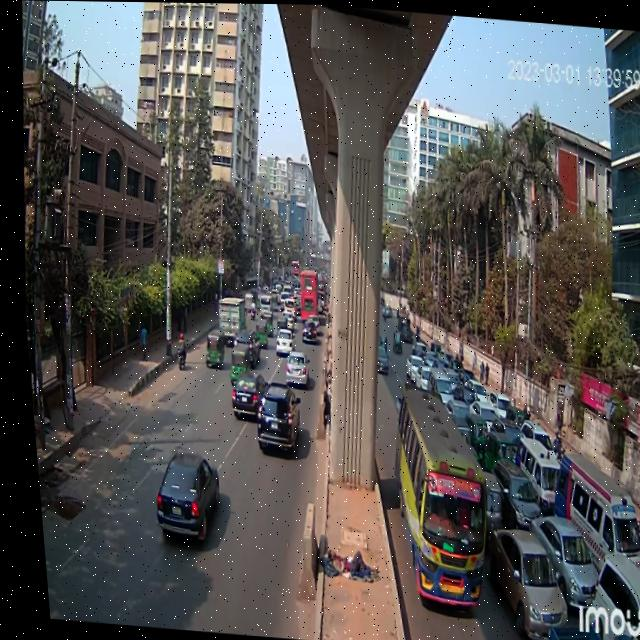cng: (475, 427, 511, 492), (453, 402, 482, 457), (220, 341, 247, 389), (196, 325, 221, 372), (244, 315, 263, 351)
